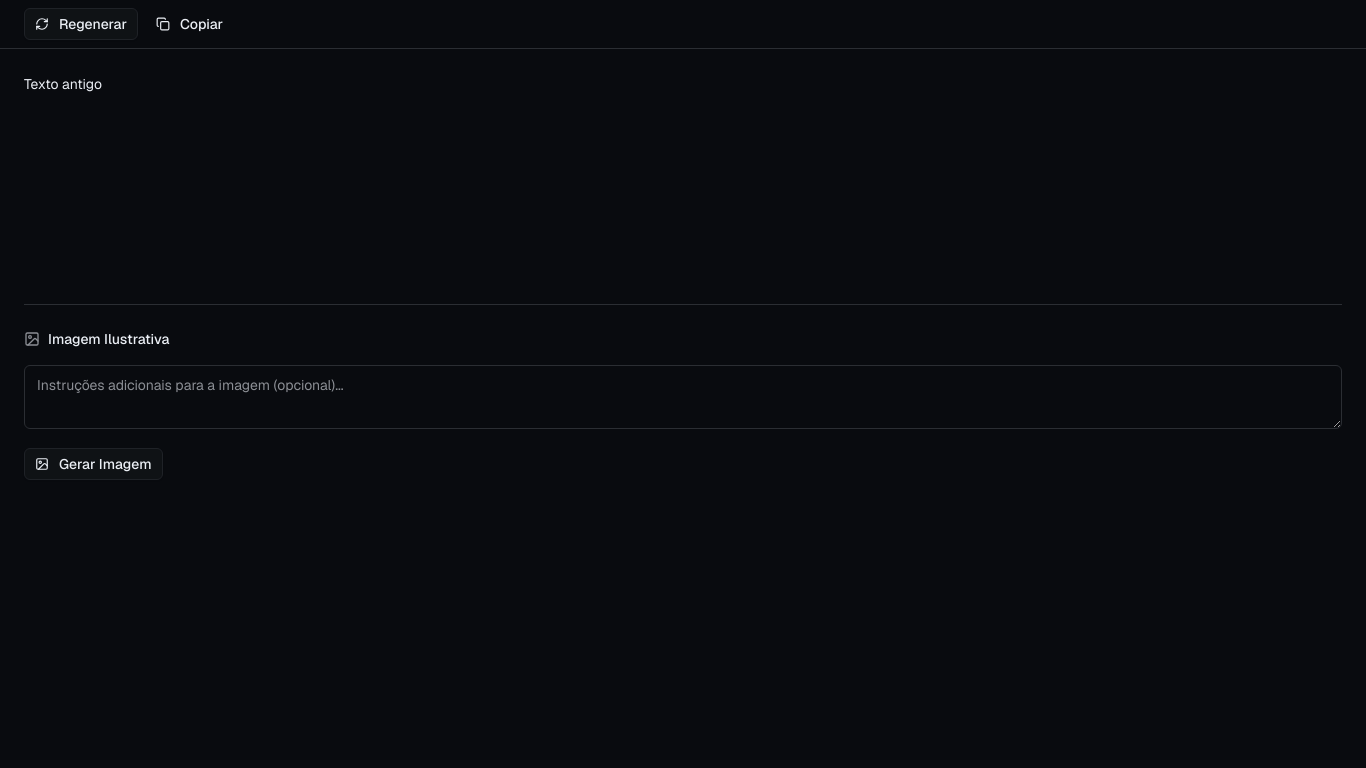
Test: NewsSocialPhase › regenerates when regenerate button is clicked and confirmed
Step 1. Click the button with test id "regenerate-social-button" → coordinates (81, 24), box [24,8,138,40]
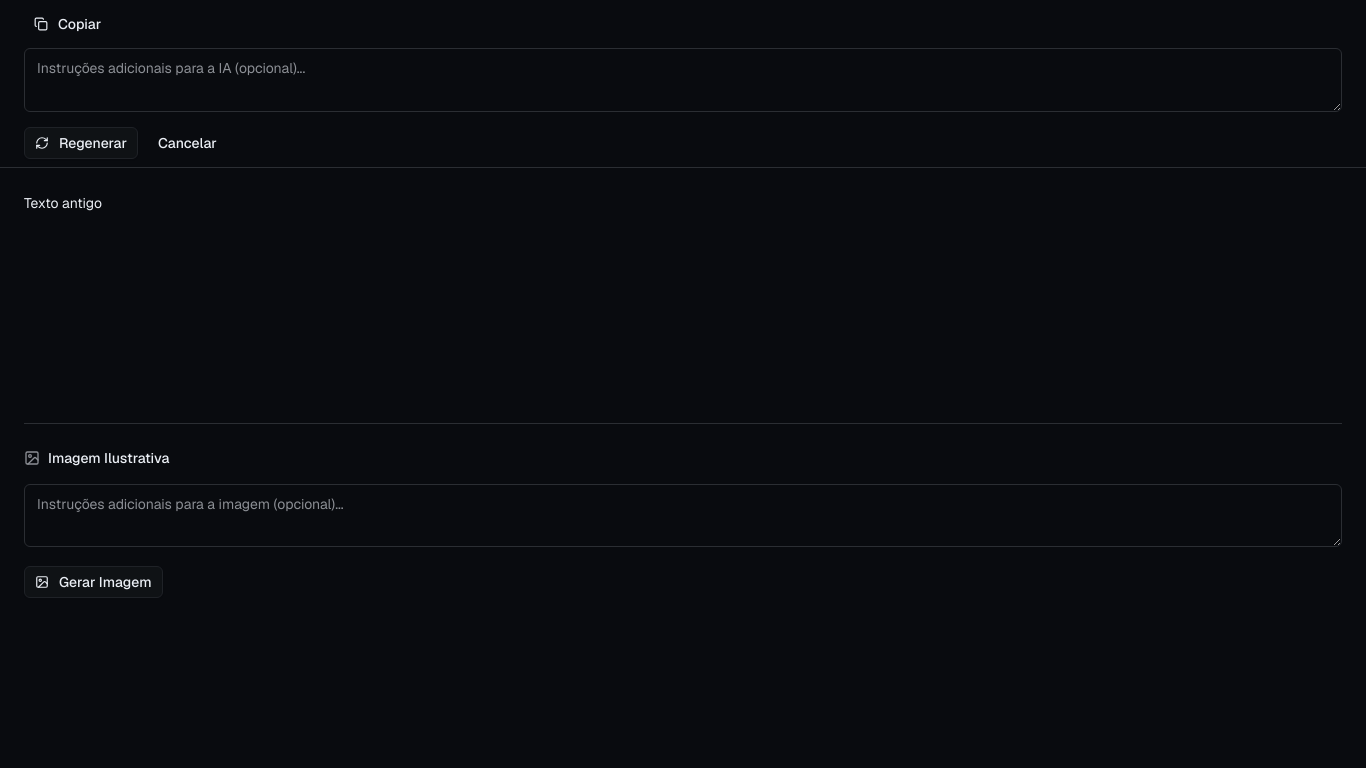
Step 2. Click the button with test id "confirm-regenerate-button" → coordinates (81, 142), box [24,126,138,158]
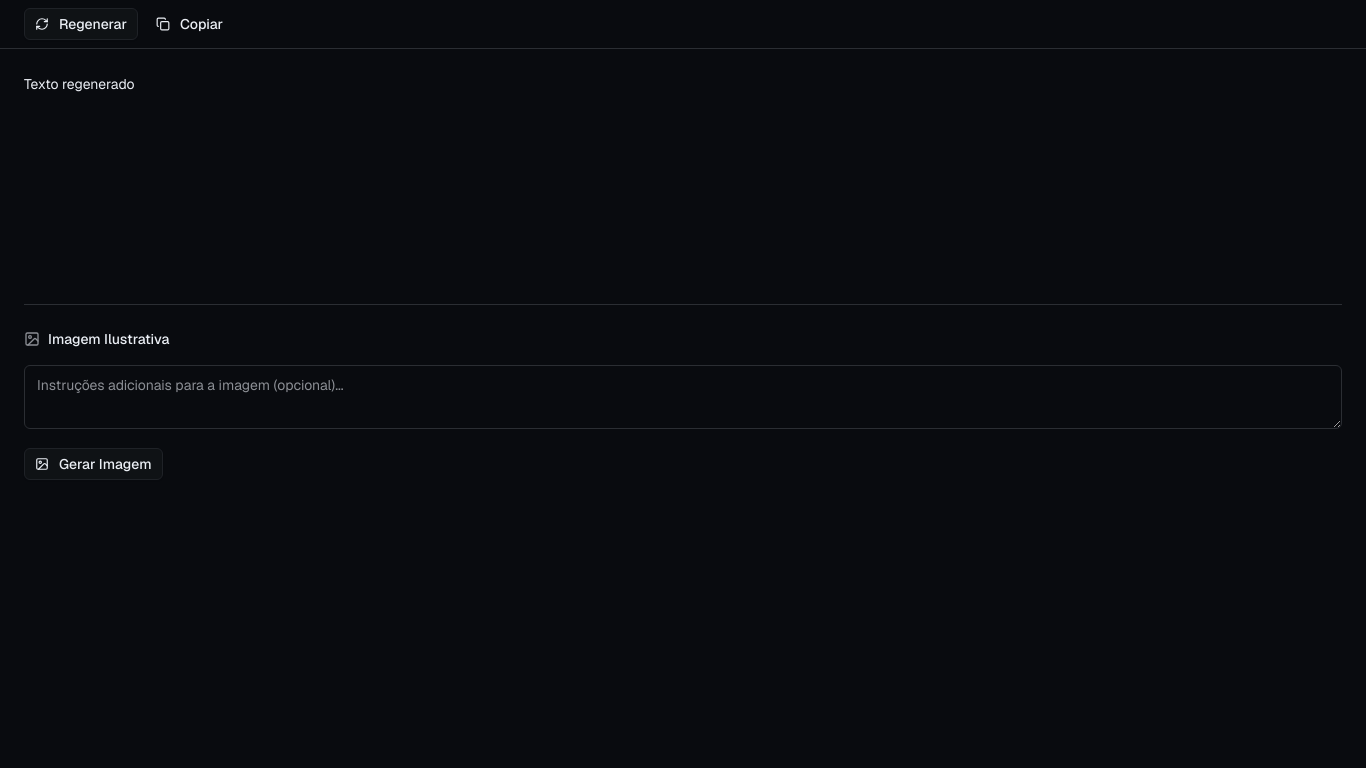
Result: the text box with test id "social-editor" holds "Texto regenerado" at [24,73,1342,273]
